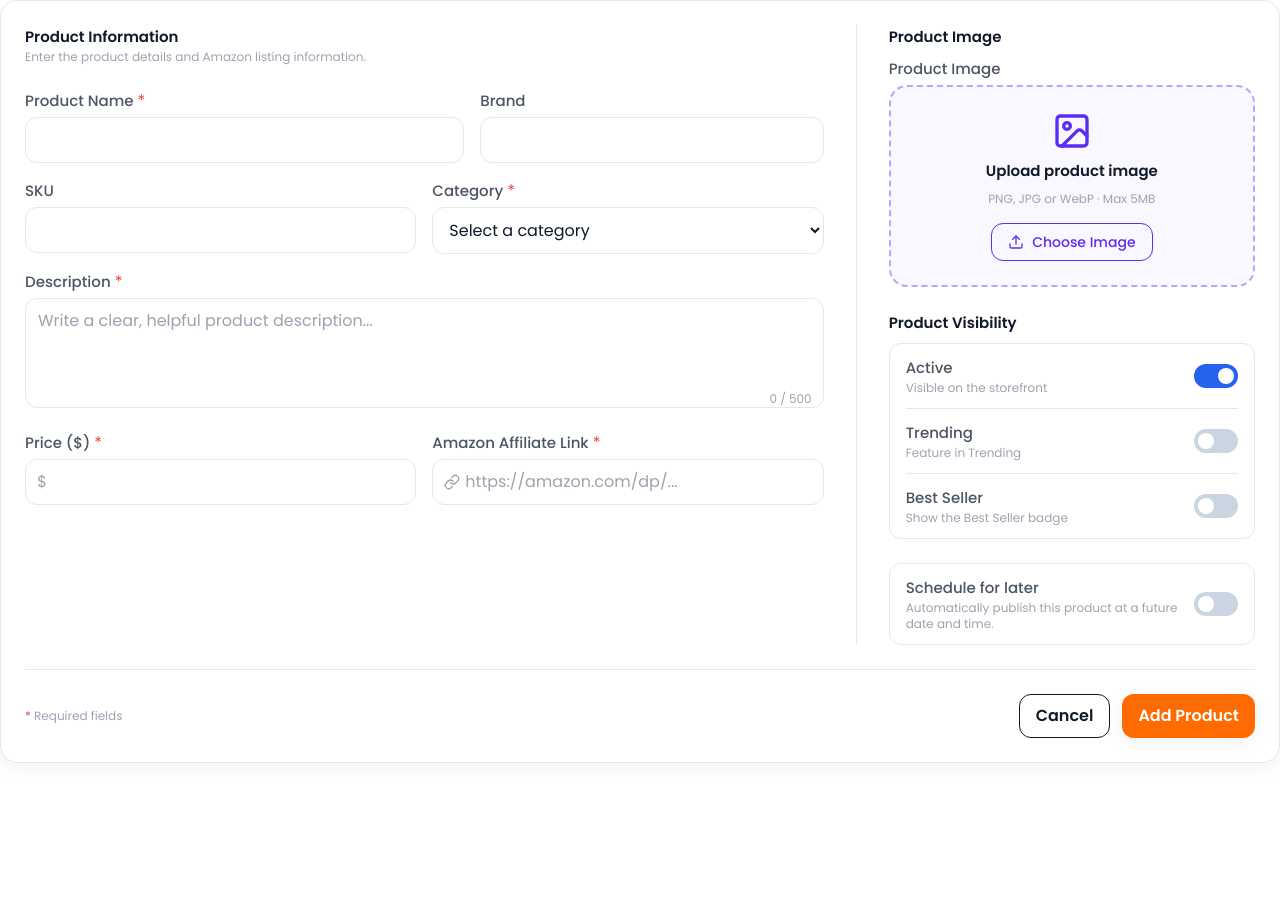
Test: ProductForm › hides the Active switch and shows a date/time field when Schedule for later is toggled on
Check: the switch named "Active" is shown, box x1=1194 y1=364 x2=1238 y2=388
Check: the field labelled "Publish Date & Time" is not shown
Click the switch named "Schedule for later".
click(1216, 604)  # box x1=1194 y1=592 x2=1238 y2=616
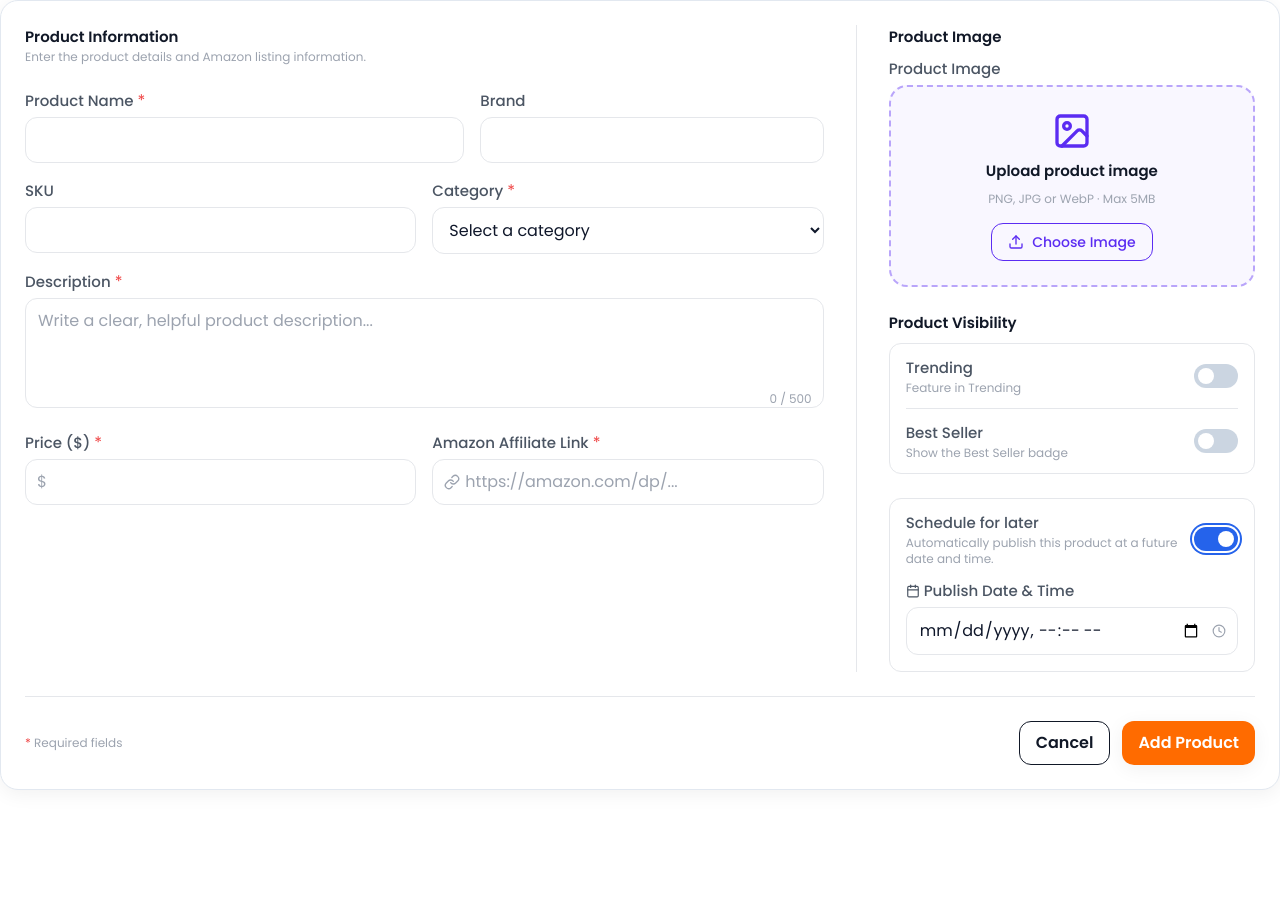
Check: the text "Active" is gone
Check: the field labelled "Publish Date & Time" is shown, box x1=906 y1=607 x2=1238 y2=655
